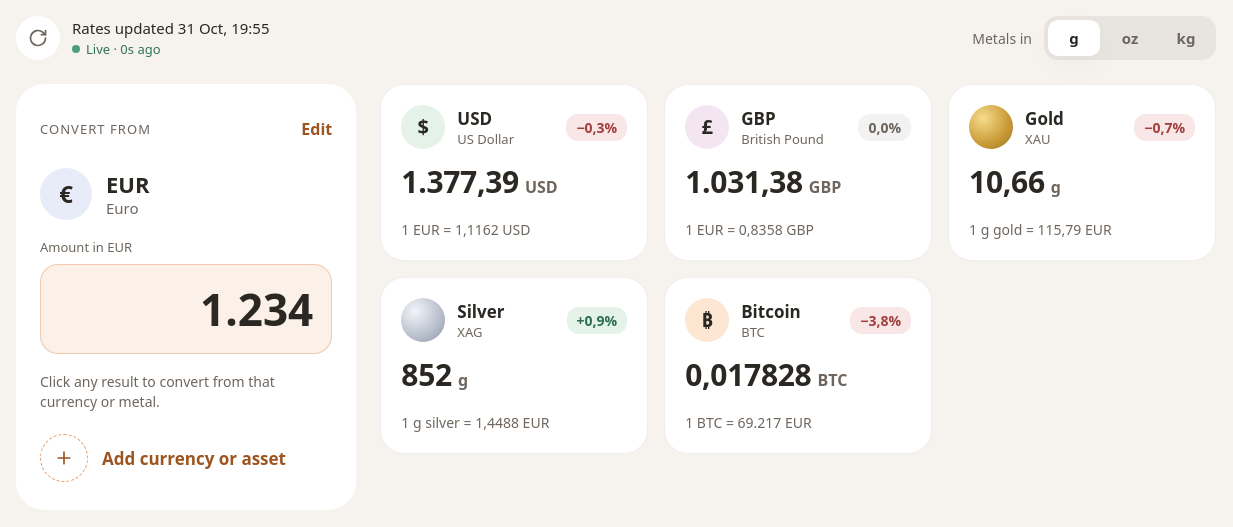
Test: App amount input formatting (SPEC §12) › keeps the caret between the same digits when typing in the middle
Type "9" into the field labelled "Amount in EUR" at (186, 309), box [40,264,332,354]
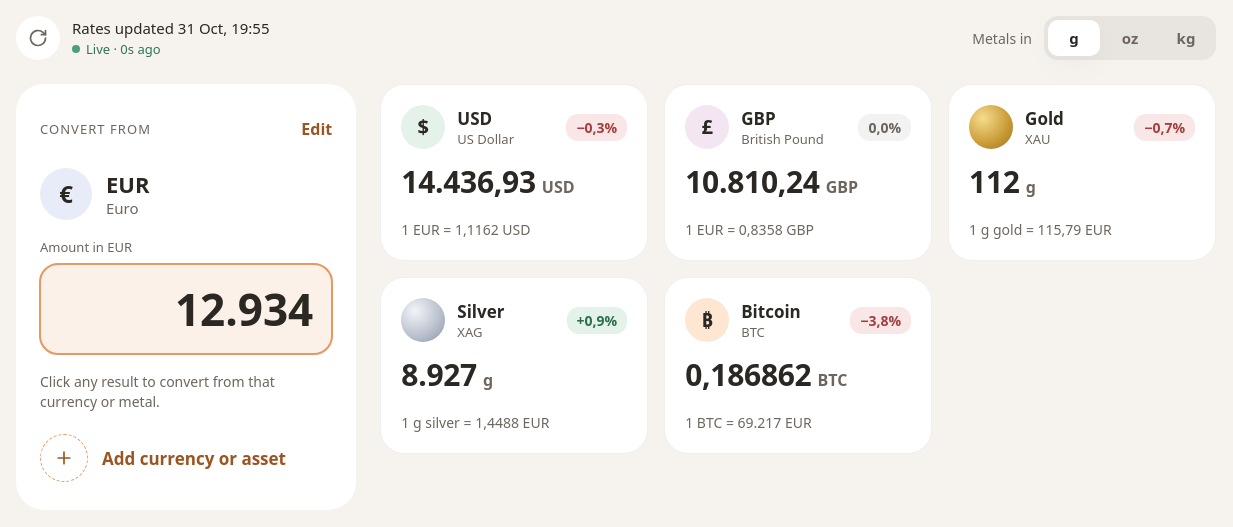
expect the field labelled "Amount in EUR" holds "12.934": met, box [40,264,332,354]
